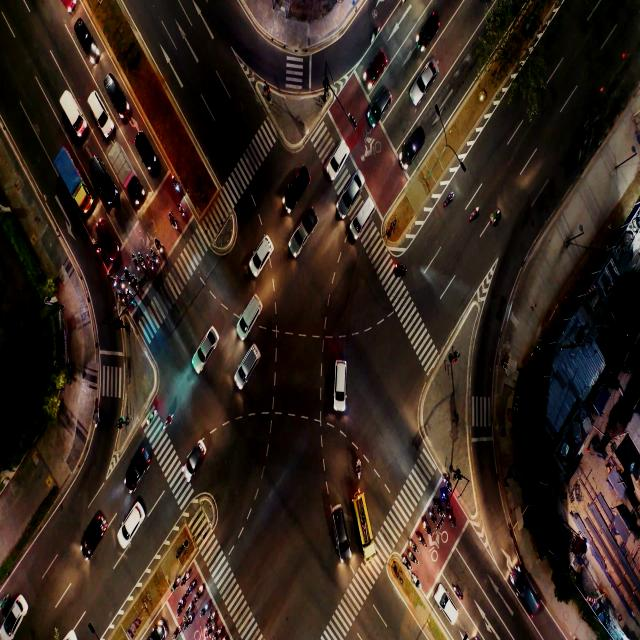bus: (359, 500, 367, 521)
car: (128, 447, 150, 477), (123, 508, 140, 531), (422, 18, 436, 45), (377, 89, 391, 115), (92, 518, 106, 542), (522, 578, 534, 604), (441, 596, 454, 616), (421, 71, 432, 94), (337, 364, 348, 387), (76, 30, 90, 48), (200, 333, 219, 346), (98, 226, 112, 243), (246, 300, 255, 325), (243, 352, 259, 366), (334, 148, 347, 164), (96, 161, 105, 184), (350, 178, 360, 198), (142, 136, 150, 161), (410, 131, 419, 152), (256, 242, 269, 256), (15, 595, 22, 621), (290, 178, 298, 198), (191, 451, 200, 466), (108, 80, 119, 92), (363, 202, 373, 215), (94, 98, 101, 114), (374, 57, 380, 69), (337, 518, 342, 528)
motorcycle: (445, 186, 456, 206), (396, 258, 406, 274), (356, 460, 362, 480), (471, 204, 476, 224), (164, 417, 173, 428), (494, 208, 500, 224), (148, 409, 154, 425), (412, 575, 420, 587), (180, 206, 186, 218), (157, 241, 163, 253), (171, 579, 179, 588), (181, 573, 188, 583), (373, 28, 379, 38), (430, 511, 435, 522), (126, 272, 132, 281), (190, 582, 196, 591), (198, 586, 204, 595), (178, 598, 184, 607), (148, 258, 153, 268), (140, 255, 145, 265), (455, 588, 461, 596), (448, 516, 452, 528), (208, 614, 214, 622), (217, 629, 222, 638), (134, 278, 138, 289), (403, 560, 410, 566), (410, 542, 415, 550), (128, 289, 132, 299), (187, 616, 192, 624), (188, 601, 192, 610), (424, 522, 429, 529), (437, 504, 441, 512), (412, 554, 416, 562), (444, 494, 448, 501), (152, 254, 156, 261), (121, 282, 125, 289), (172, 218, 175, 226), (119, 292, 122, 300), (420, 536, 423, 543), (175, 180, 178, 187), (205, 603, 208, 610), (176, 626, 179, 632), (210, 626, 213, 632), (135, 258, 137, 266), (447, 482, 449, 489), (114, 280, 116, 287)
truck: (296, 217, 308, 241), (117, 159, 126, 179), (65, 168, 74, 185), (71, 100, 79, 114)
